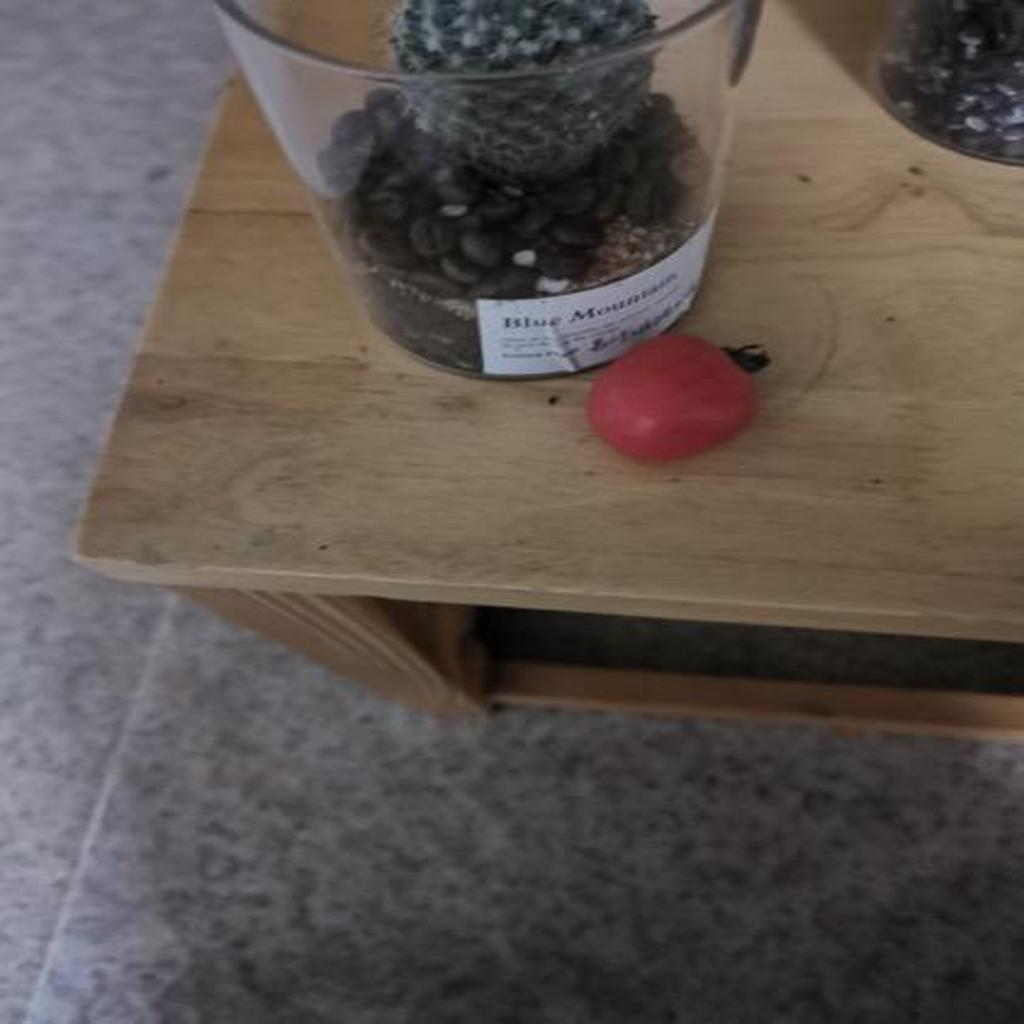tomato: (579, 329, 768, 463)
